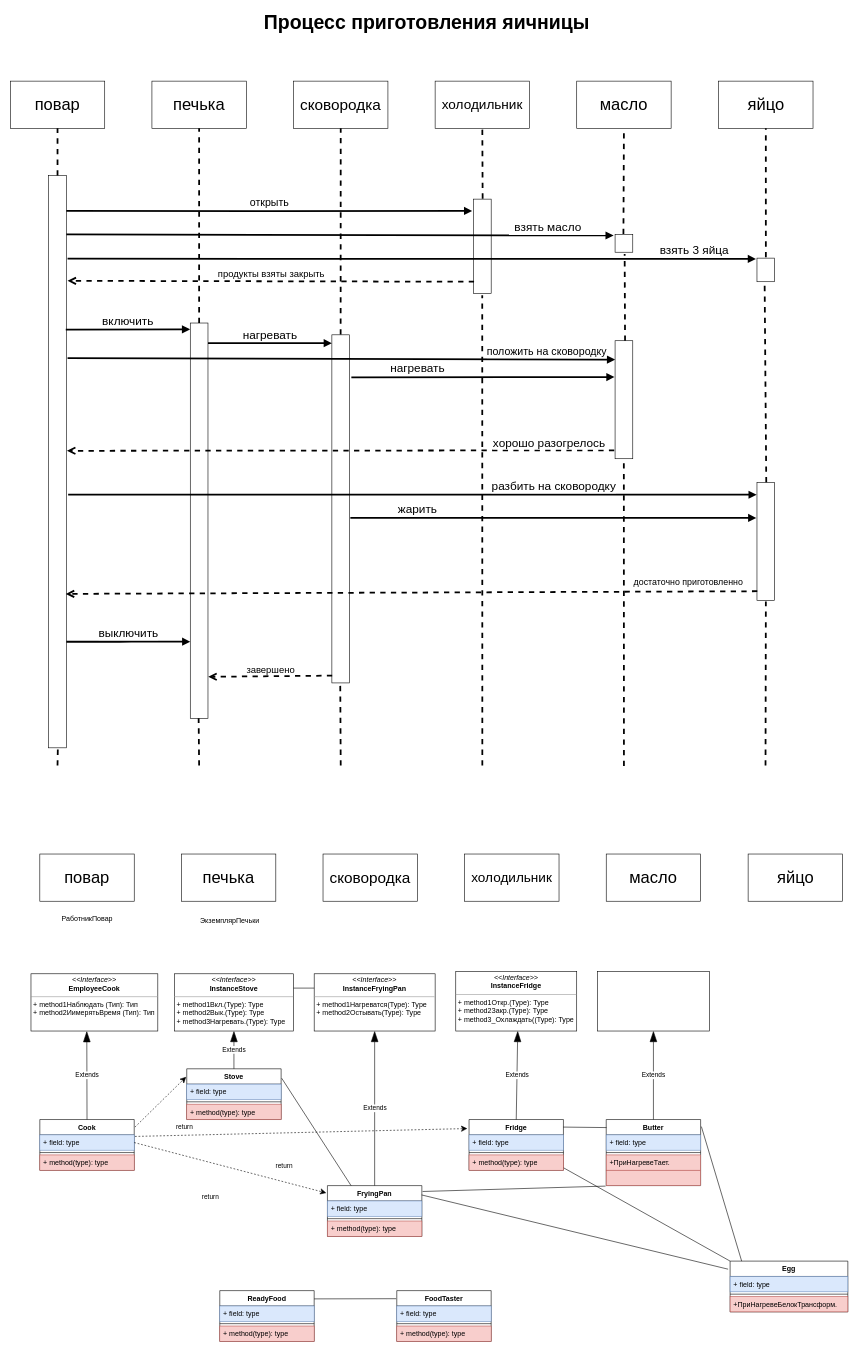
This 858x1353 diagram has some shape labels left out. The centre of each missing label's shape, as x and y in pixels:
+ПриОхлажд_Тверд.: the point at 653,1178
<<Interface>> InstanceButter + field1Живое: Type + field2Искуств.: Type: the point at 653,1001
